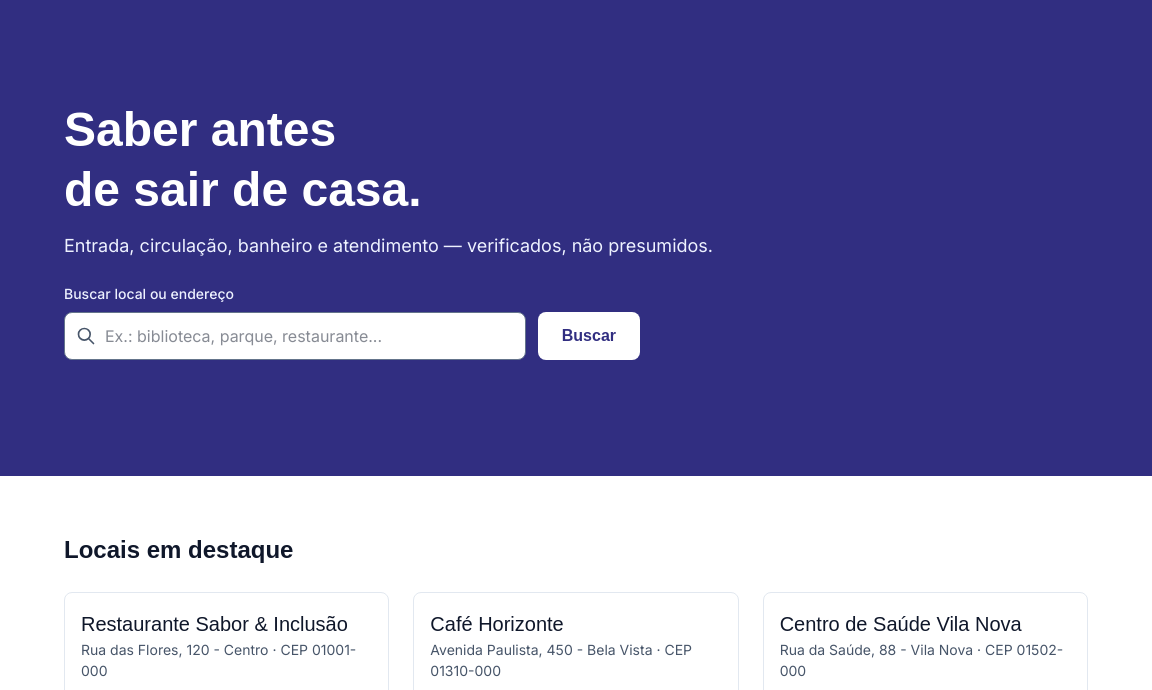
Scenario: Página inicial › busca por endereço ao acionar Buscar
The image size is (1152, 690).
Type "Rua dos Livros, 56 - Liberdade" into the search field labelled "Buscar local ou endereço" at coordinates (295, 336), box [64,312,526,360]
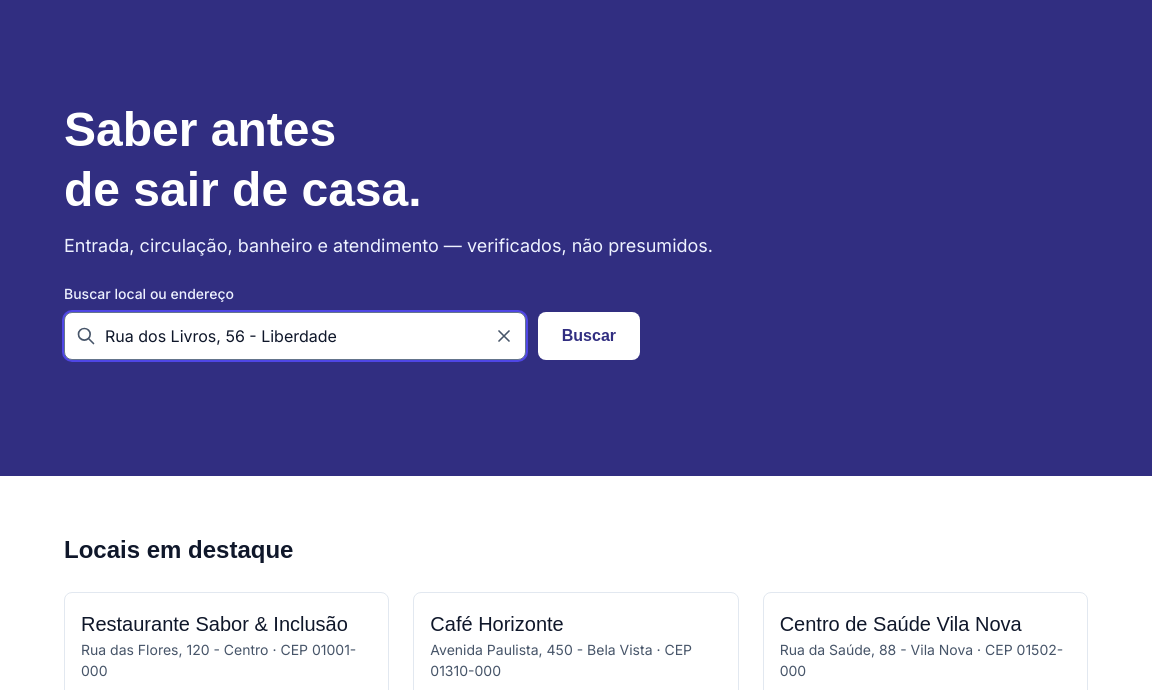
Click the button "Buscar" at coordinates (589, 336), box [538,312,640,360]
(page scrolled)
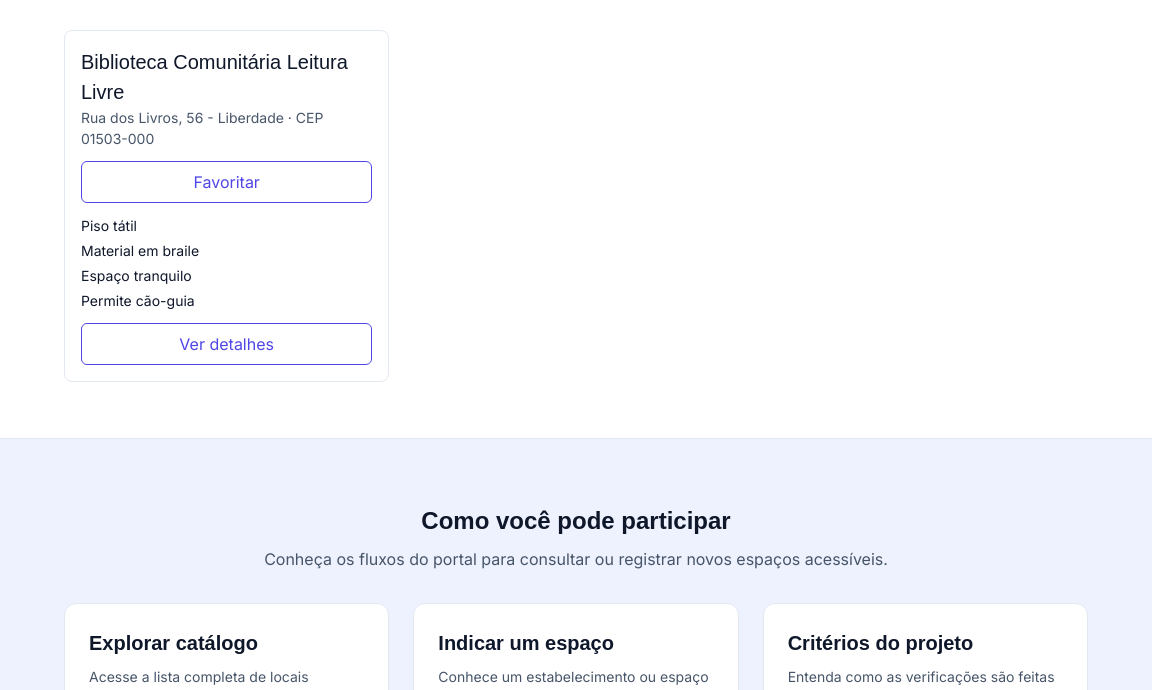
Now the heading "Biblioteca Comunitária Leitura Livre" is shown, box [81,47,372,107]
